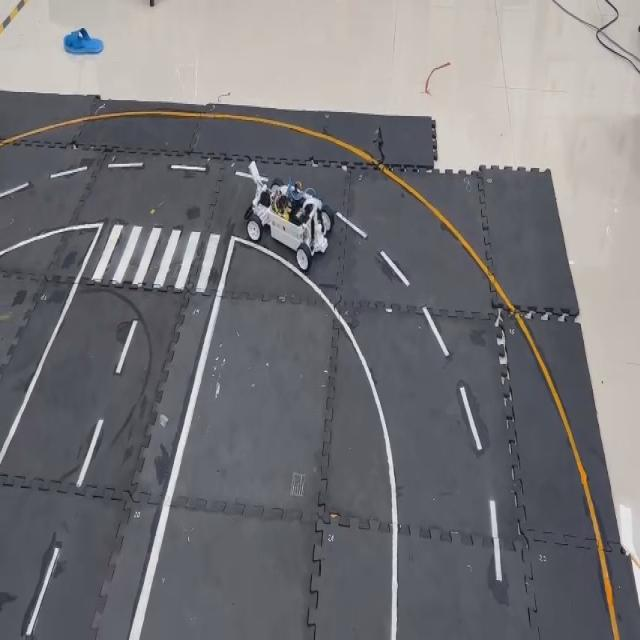SiCo-CAR: (233, 159, 334, 272)
